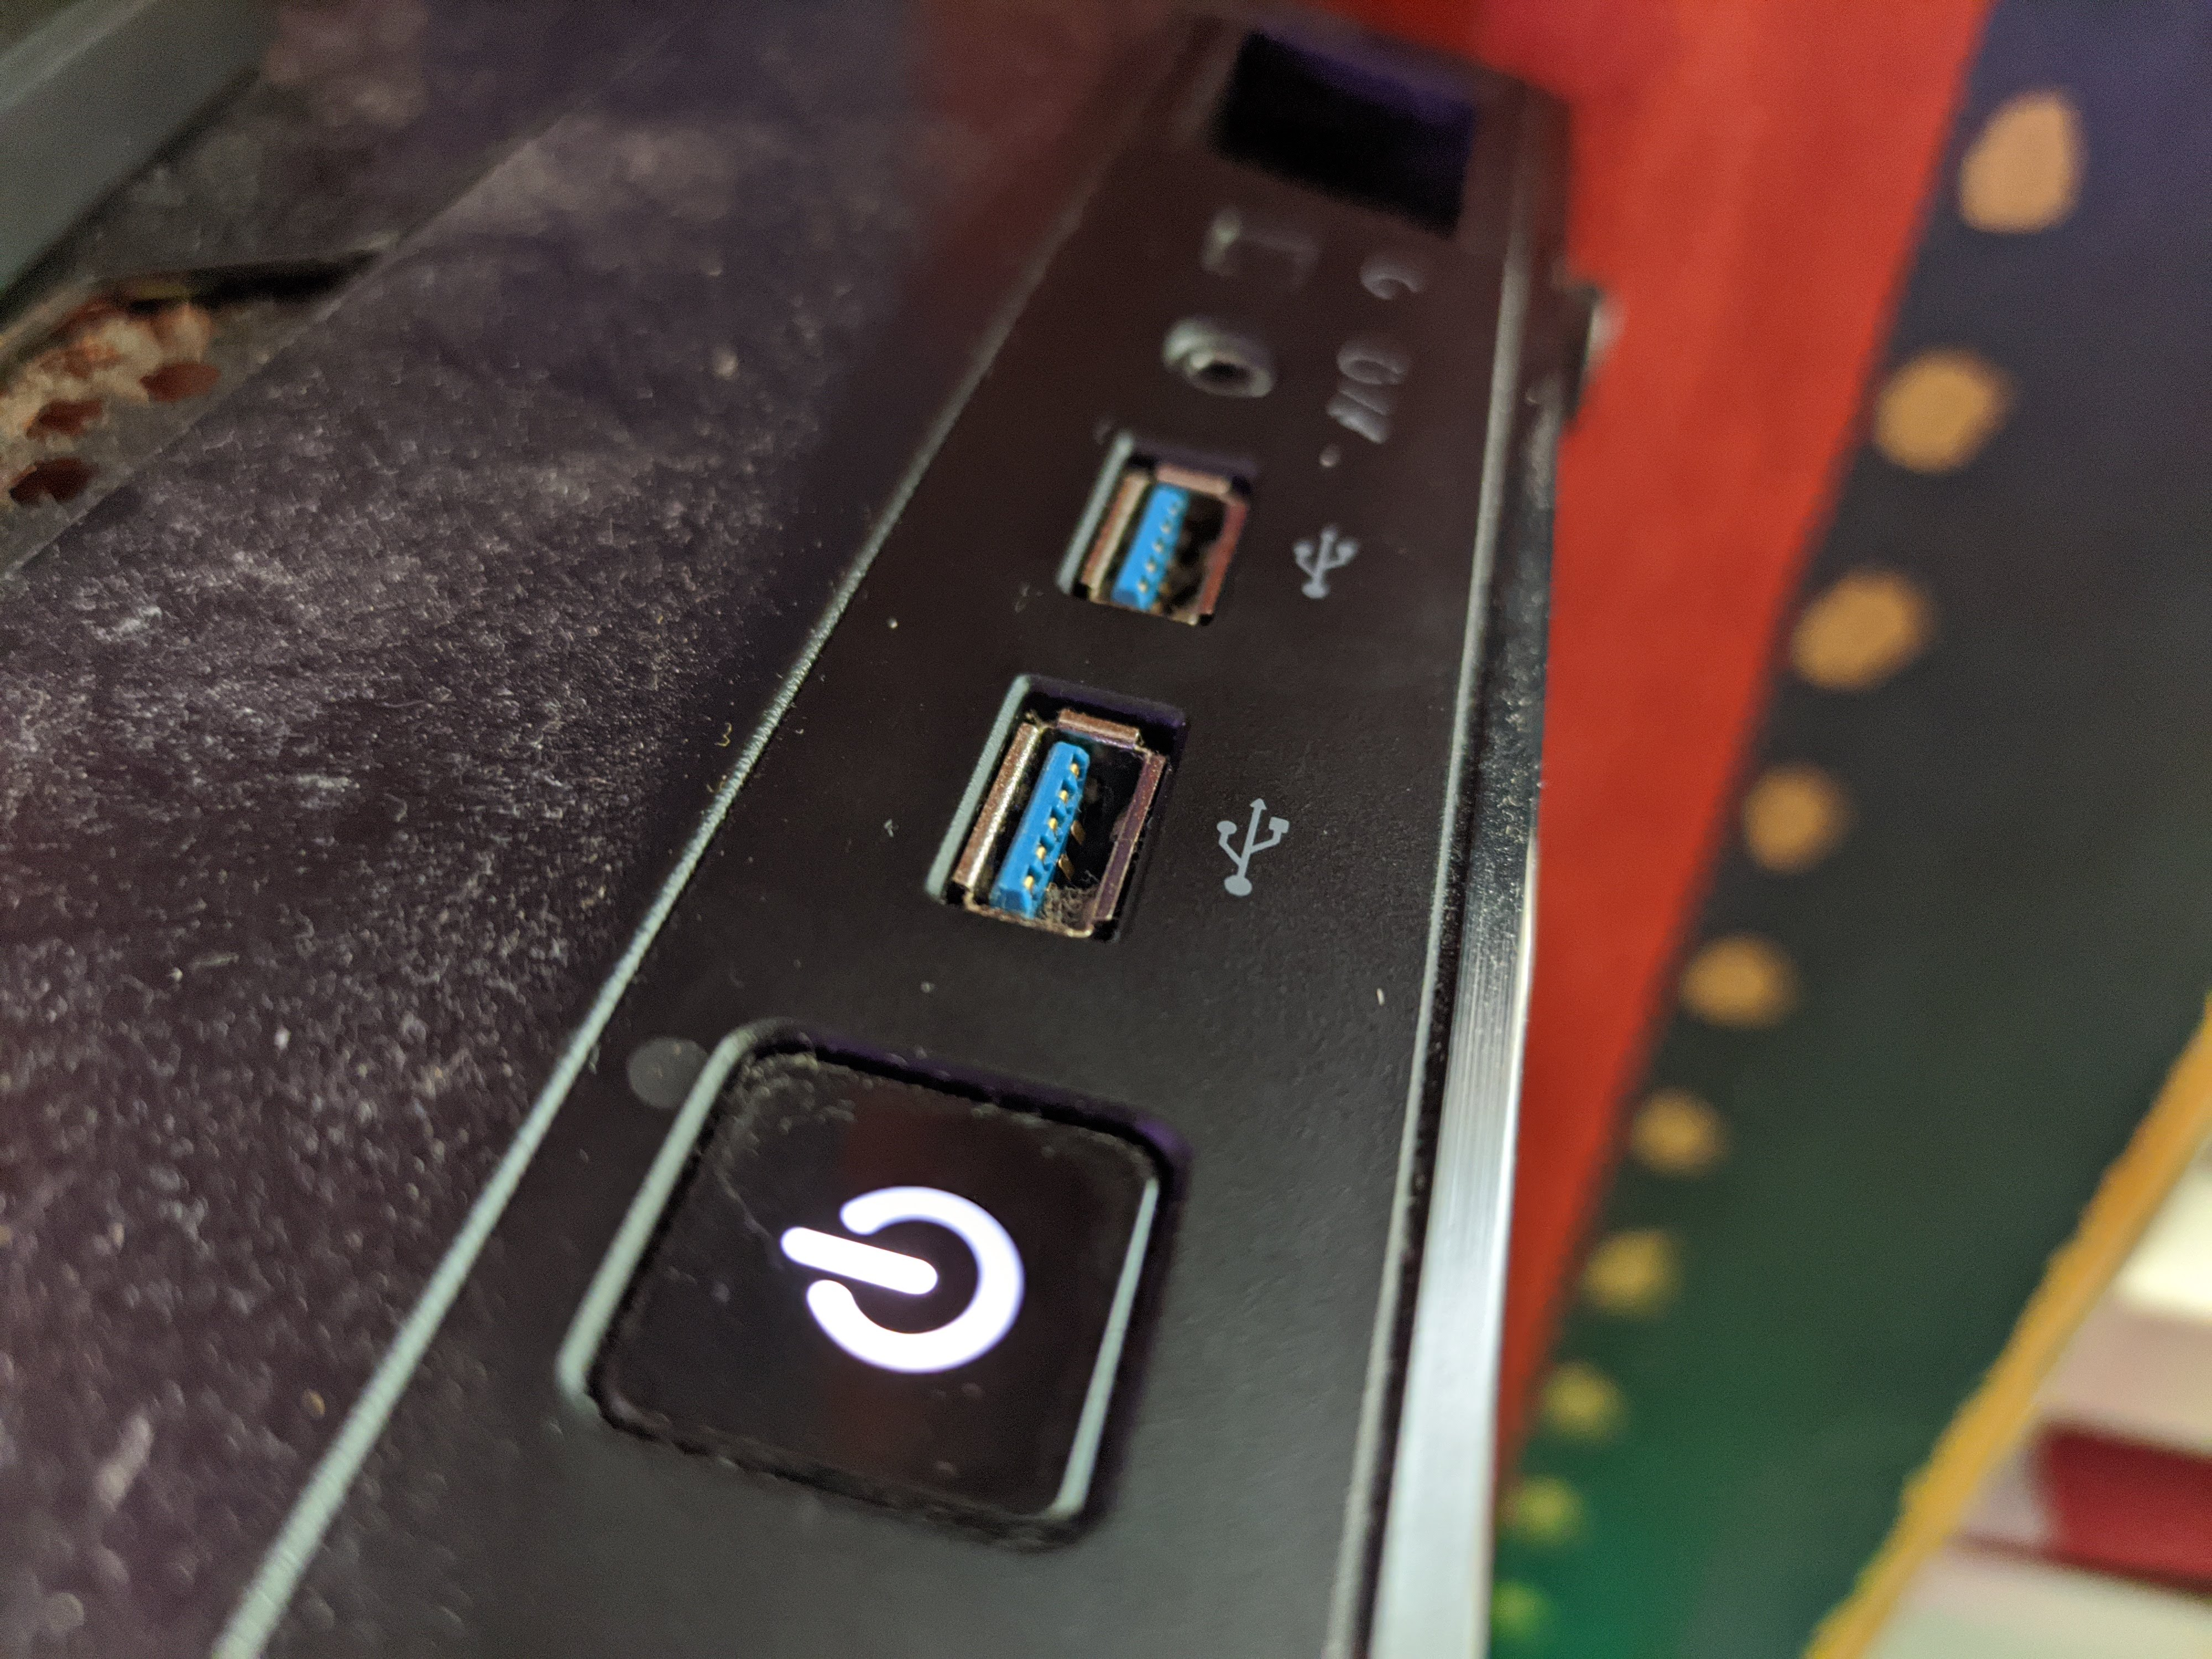usbport_in: (921, 701, 1176, 945), (1068, 425, 1244, 633)
